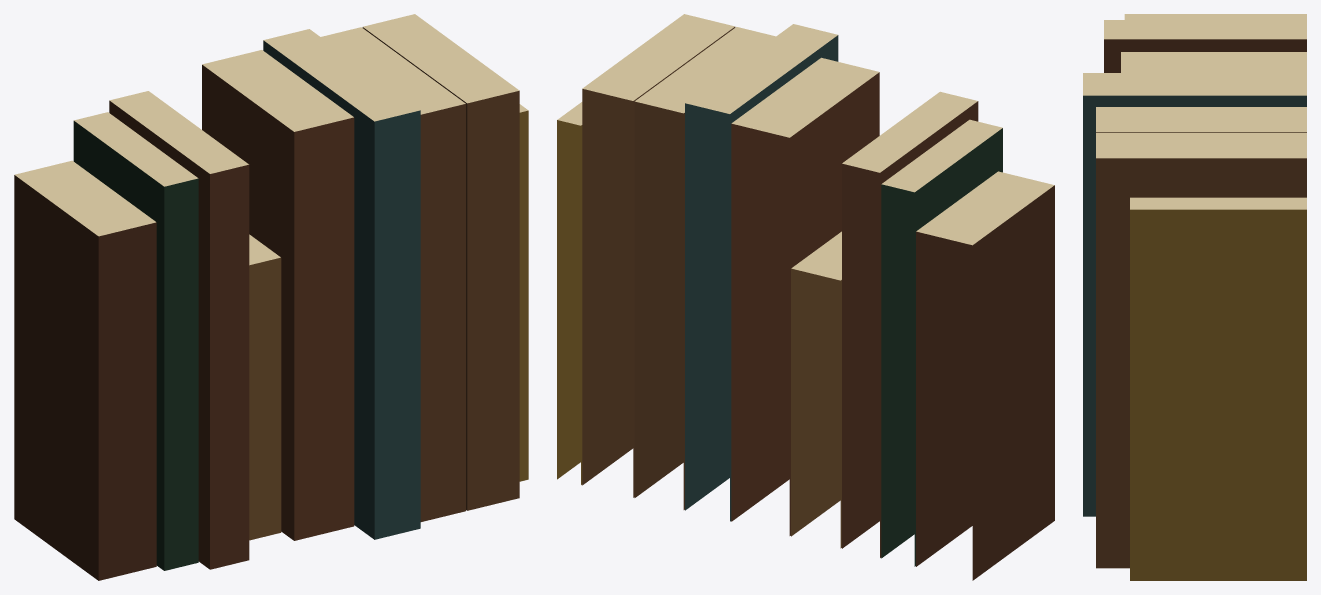
File: bookrow_tall_0_lod.glb
3 renders of one model, left to right at view 1: azimuth 30°, elevation 25°; view 2: azimuth 150°, elevation 25°; view 3: azimuth 270°, elevation 25°, orthographic. The views are drawn at different scales.
Parts seen in each view (by area): view 1: bookrow_tall_0_lod; view 2: bookrow_tall_0_lod; view 3: bookrow_tall_0_lod.
Boxes of the visible parts, left/top/right/bottom form: bookrow_tall_0_lod: left=14, top=14, right=528, bottom=580; bookrow_tall_0_lod: left=557, top=14, right=1054, bottom=580; bookrow_tall_0_lod: left=1083, top=14, right=1306, bottom=580.
Bounding box in the file's own units: 0.4846 × 0.4542 × 0.2189.
